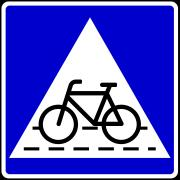Cycle Crossing: (11, 9, 170, 163)
